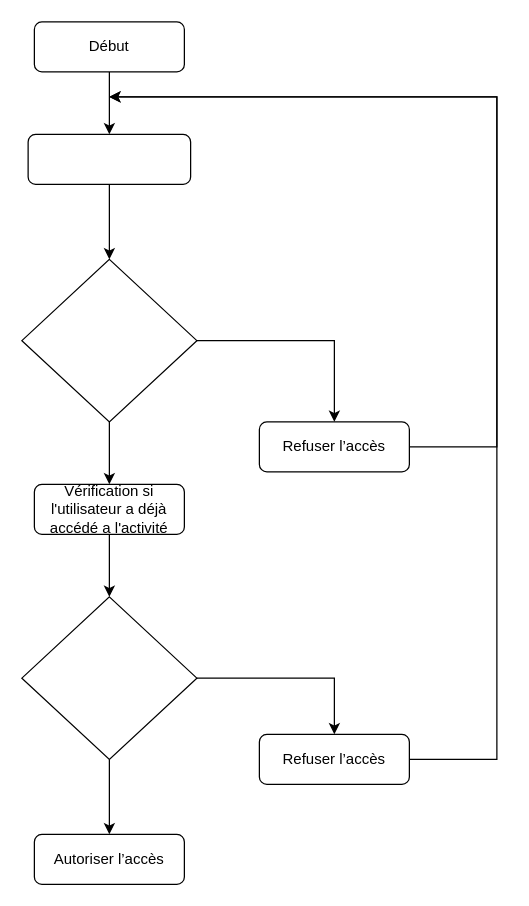
Image size: 529x906. Some labels were removed from this diagram. Each missing label, with the box of its shape:
L'utilisateur a-t'il deja accédé a l'activité ?: (21, 596, 197, 759)
L'utilisateur est-il autorisé a accédé a l'activité ?: (21, 258, 197, 422)
Vérification si l'utilisateur est autorisé a accédé a l'activité: (27, 133, 191, 184)
